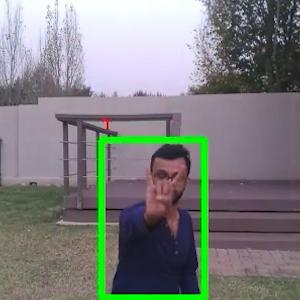takeoff-hand: (135, 156, 191, 222)
